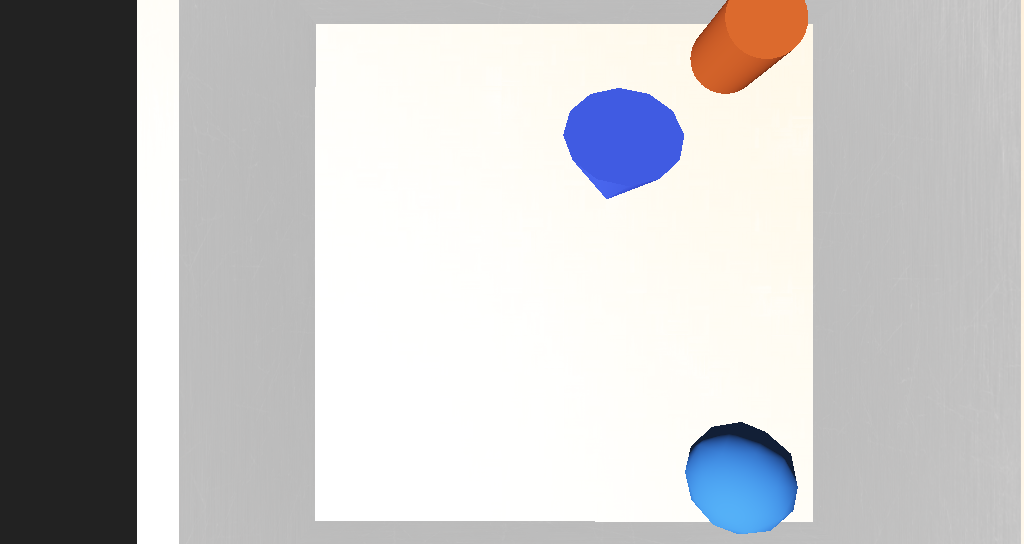cone: (583, 150, 643, 193)
cylinder: (499, 193, 566, 255)
sphere: (573, 329, 640, 377)
